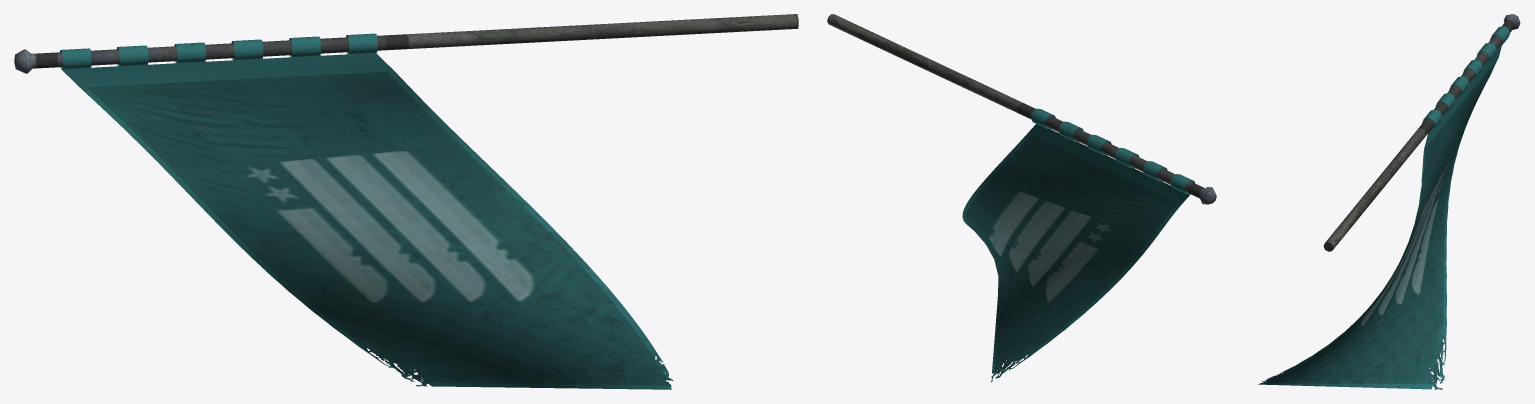
The model's file is mp_flag_allies_2_carry_LOD0.obj.
The picture shows the model from 3 angles, left to right: view 1: azimuth 30°, elevation 25°; view 2: azimuth 150°, elevation 25°; view 3: azimuth 270°, elevation 25°; orthographic projection. The views are drawn at different scales.
Visible parts, largest first — view 1: mtl_flag_allies_2, mtl_mp_flag_base; view 2: mtl_flag_allies_2, mtl_mp_flag_base; view 3: mtl_flag_allies_2, mtl_mp_flag_base.
Boxes of the visible parts, box(x1,y1,x2,y2) form: mtl_flag_allies_2: box(60, 33, 673, 389); mtl_mp_flag_base: box(14, 14, 798, 73); mtl_flag_allies_2: box(962, 108, 1195, 382); mtl_mp_flag_base: box(827, 14, 1216, 204); mtl_flag_allies_2: box(1258, 26, 1510, 389); mtl_mp_flag_base: box(1323, 14, 1520, 251).
Size of the model in its own units: 131 by 74.03 by 69.83.
